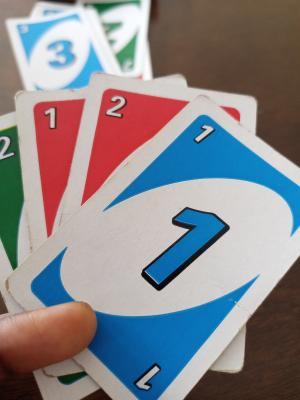num_1: (124, 354, 167, 394), (187, 116, 219, 151), (38, 104, 66, 136)
num_2: (101, 90, 129, 129)
